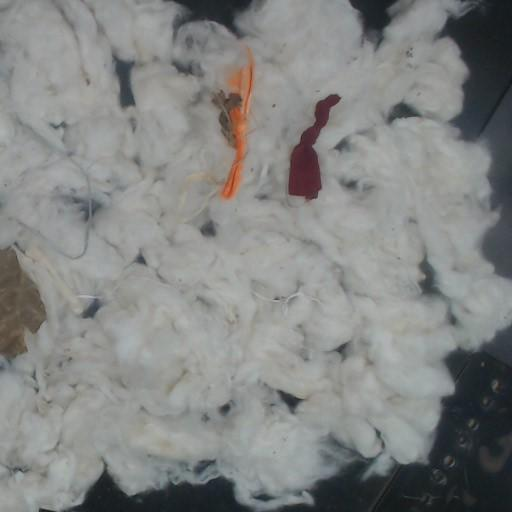cloth: (212, 54, 253, 199), (288, 95, 340, 200), (0, 255, 44, 351)
conveyor belt: (279, 325, 511, 511), (444, 0, 511, 277), (74, 471, 249, 511), (176, 0, 250, 35), (351, 0, 394, 41), (114, 57, 134, 106), (420, 262, 438, 294), (390, 103, 416, 119), (280, 393, 299, 410)
cotton: (0, 0, 511, 511)
thread: (22, 174, 93, 259), (80, 294, 98, 298)
